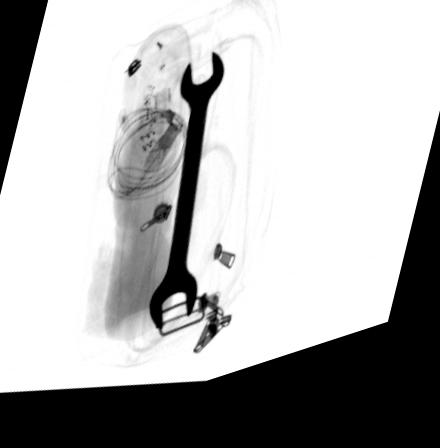Wrench: (147, 62, 226, 345)
